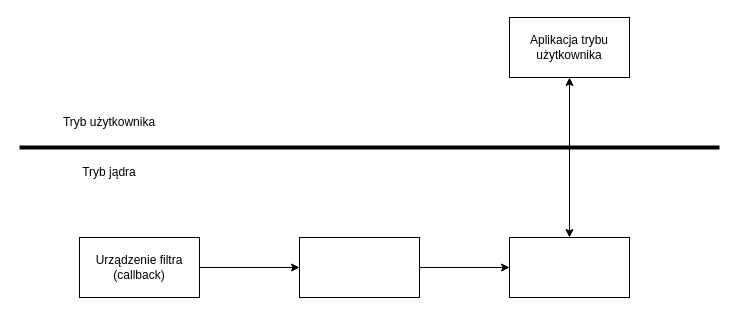
Some shapes in this 739 by 315 pixel diagram are drawn without their labels. Here are the shapes that lost their labels. From the top down, the box of each, then its label:
(298, 236, 420, 298): Bufor kołowy
(508, 236, 630, 298): Urządzenie kontrolne
